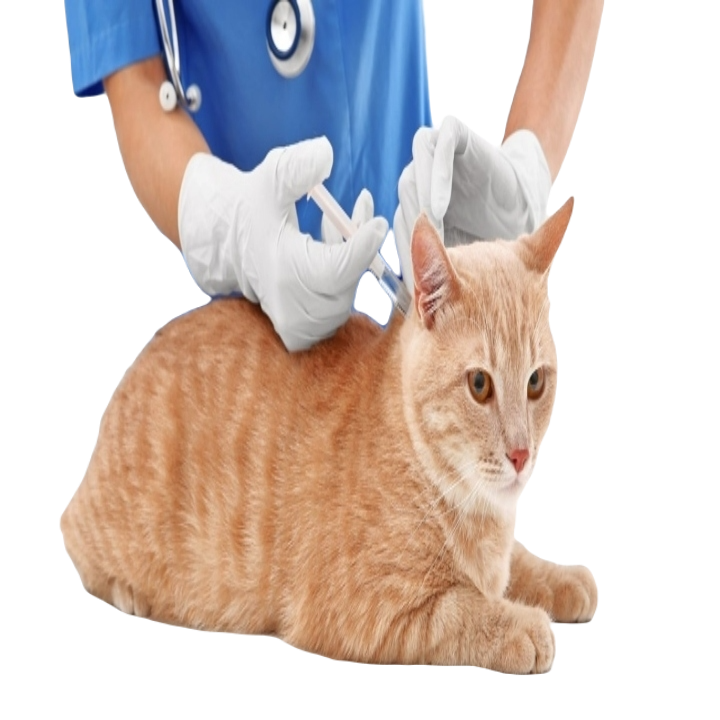Cat: (44, 206, 632, 679)
